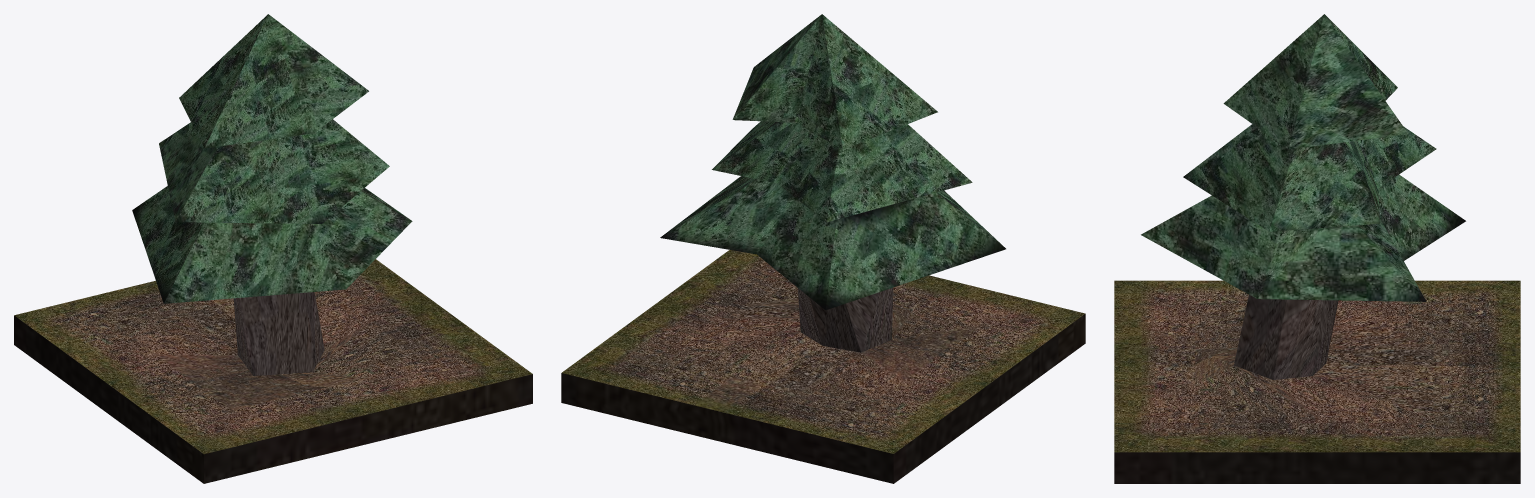
Rendered from SimpleTree6.glb.
3 views of the same model, side by side, from view 1: azimuth 30°, elevation 25°; view 2: azimuth 150°, elevation 25°; view 3: azimuth 270°, elevation 25° (orthographic). The views are drawn at different scales.
Visible parts, largest first — view 1: Cube; view 2: Cube; view 3: Cube.
Boxes of the visible parts, box(x1,y1,x2,y2) form: Cube: box(14, 14, 532, 483); Cube: box(561, 14, 1085, 483); Cube: box(1114, 14, 1520, 483).
Size of the model in its own units: 2 by 2.08 by 2.
1 material, 1 textured.
